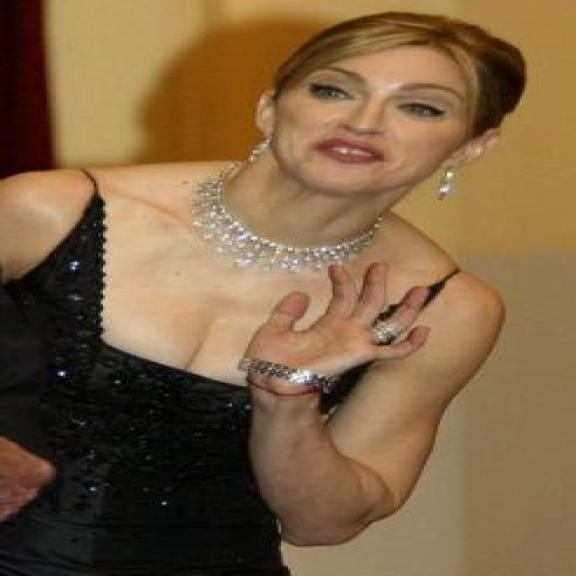face: (252, 18, 511, 199)
